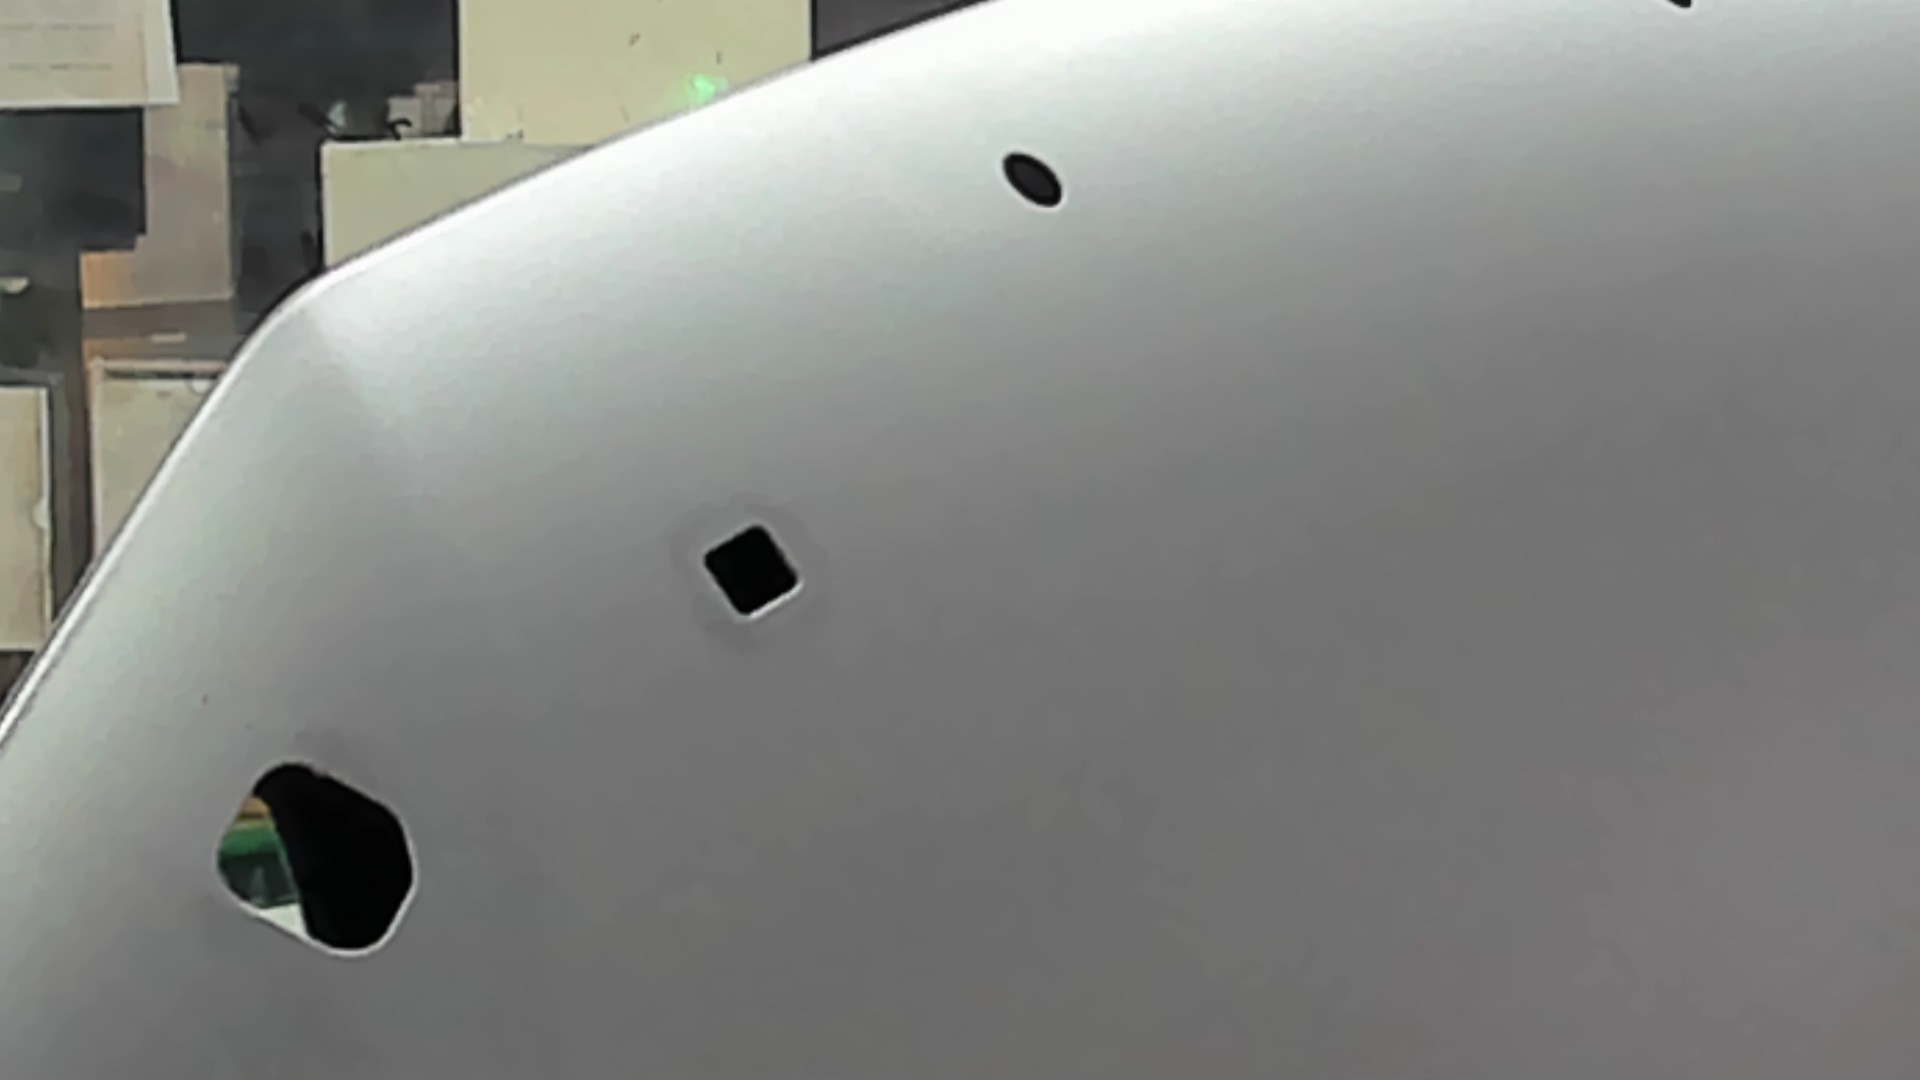chico: (986, 133, 1080, 218)
grande: (183, 738, 448, 978)
mediano: (687, 509, 818, 632)
